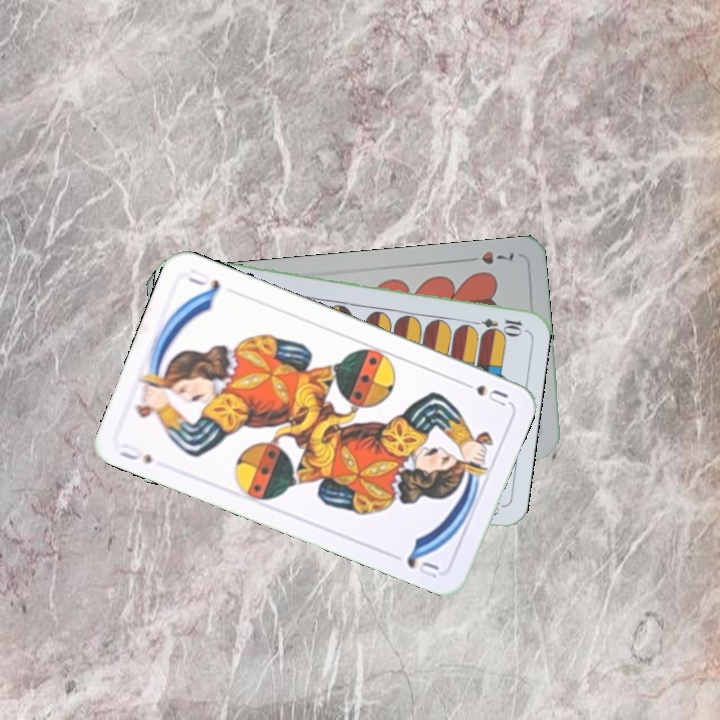E10: (466, 314, 525, 335)
H7: (460, 247, 517, 267)
SU: (455, 377, 511, 409), (115, 439, 155, 467)
